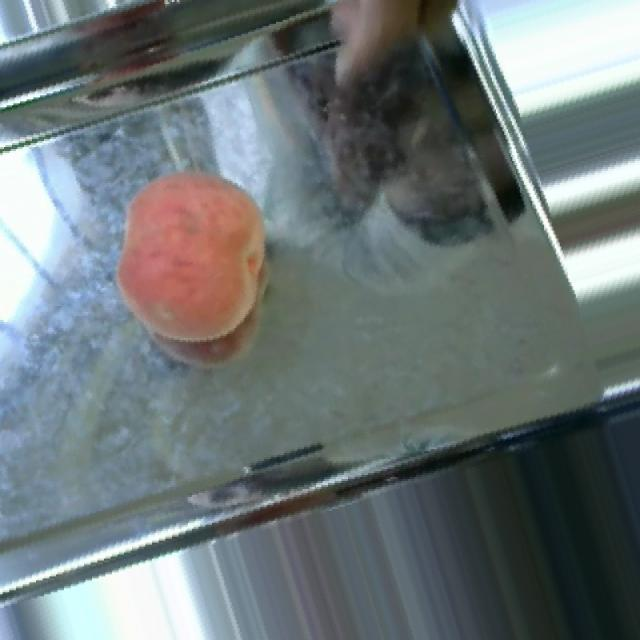Fruit: (94, 145, 294, 368)
